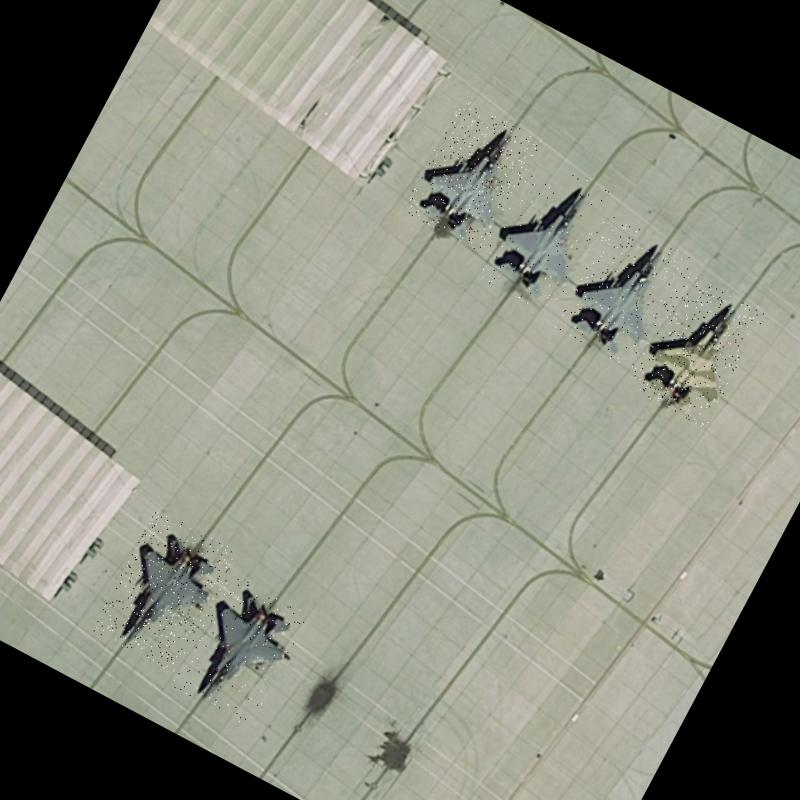A13: (91, 508, 239, 674), (472, 153, 618, 317), (552, 215, 694, 372), (166, 570, 308, 727), (401, 97, 542, 253), (628, 272, 765, 428)
